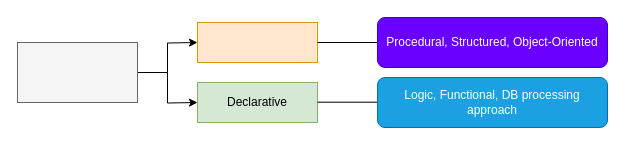
This 625x145 diagram has some shape labels left out. The centre of each missing label's shape, as x and y in pixels:
"Imperative" goes at point 257,42.
"Programming paradigms" goes at point 77,72.
